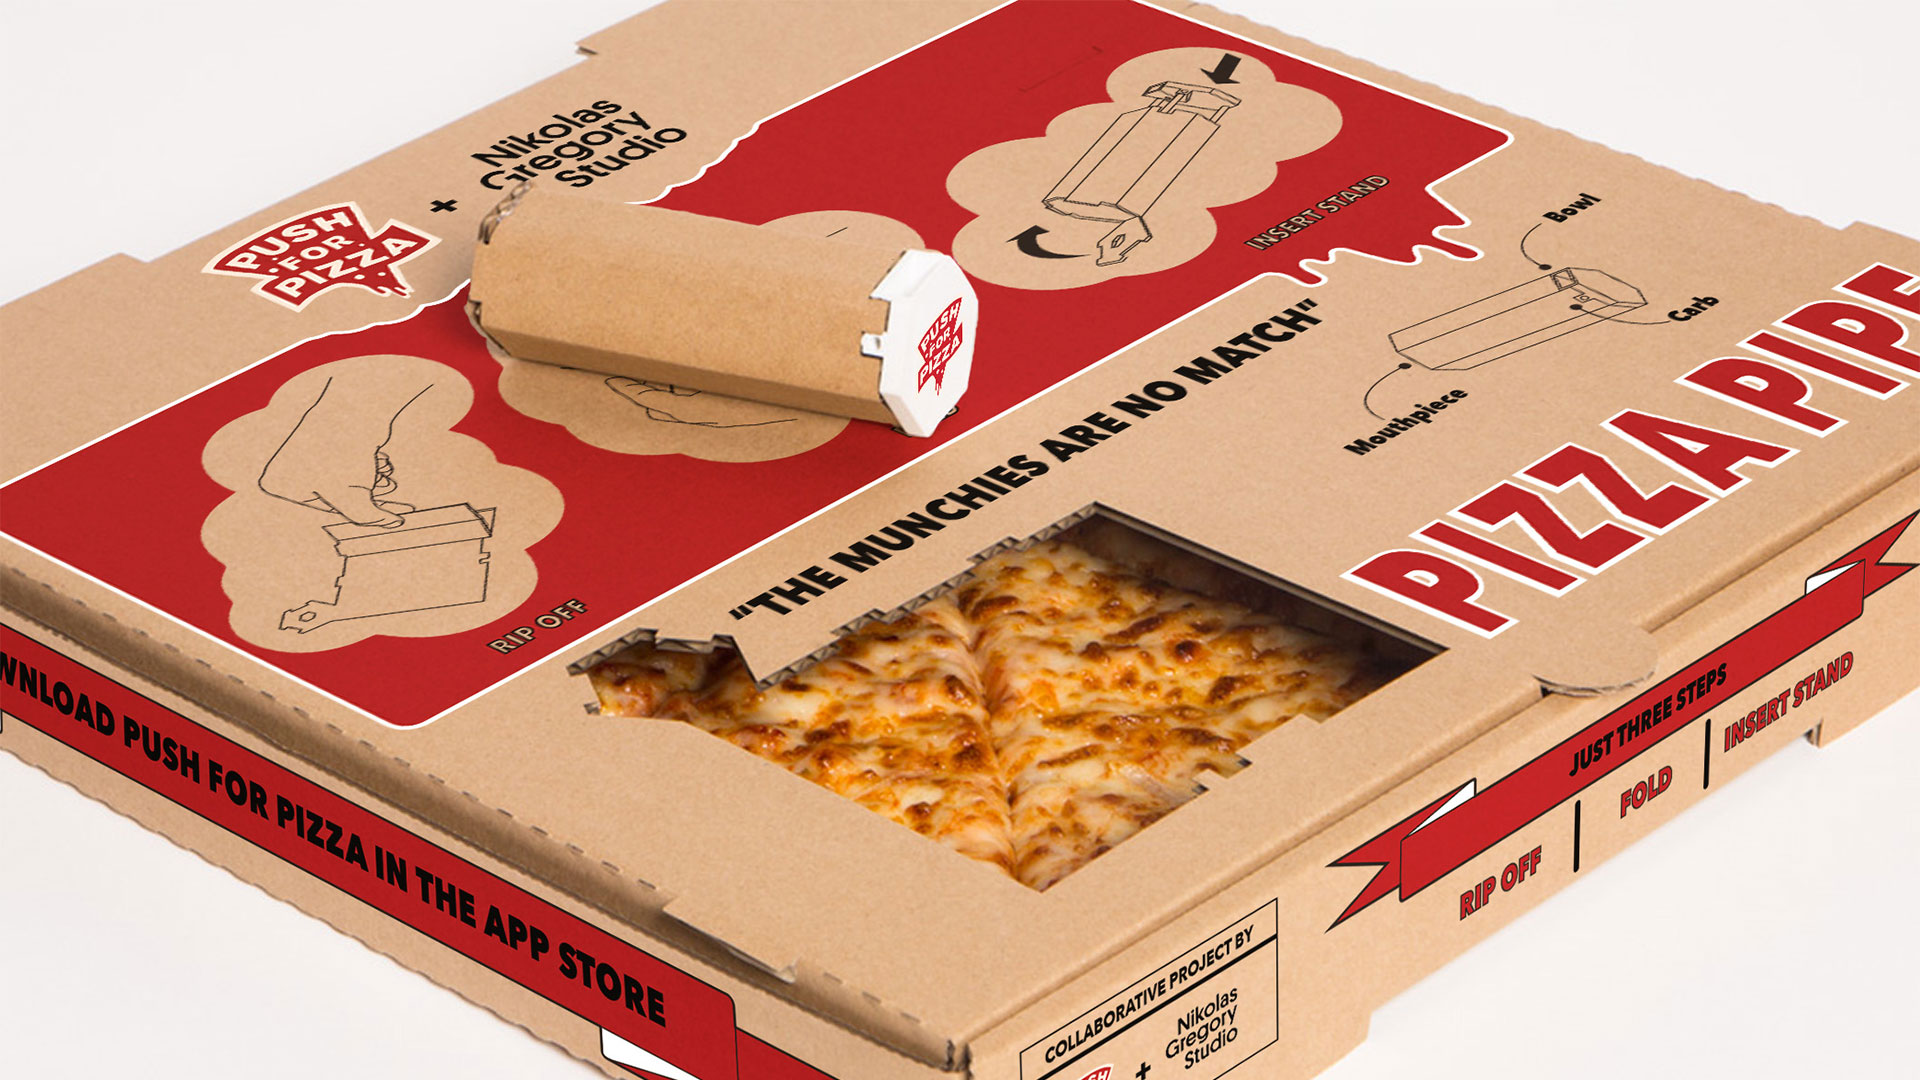Rec_Paper: (1, 1, 1894, 1080)
